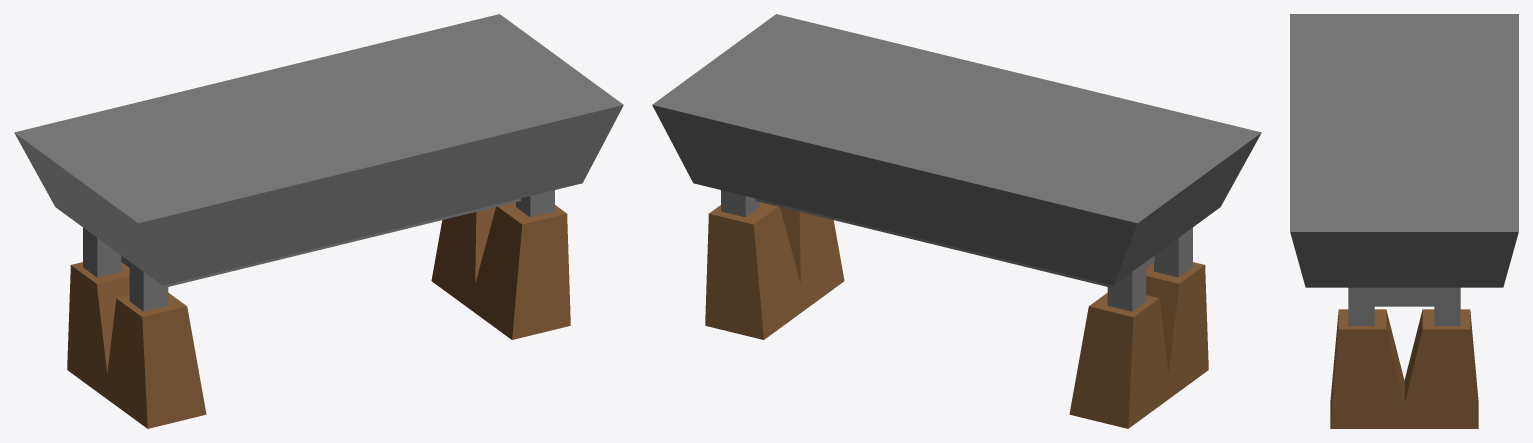
File: Smithing_Table.fbx
3 views of the same model, side by side, from view 1: azimuth 30°, elevation 25°; view 2: azimuth 150°, elevation 25°; view 3: azimuth 270°, elevation 25° (orthographic). The views are drawn at different scales.
Parts seen in each view (by area): view 1: SMHTable; view 2: SMHTable; view 3: SMHTable.
Boxes of the visible parts, bbox=[...] form: SMHTable: bbox=[14, 14, 623, 428]; SMHTable: bbox=[652, 14, 1261, 428]; SMHTable: bbox=[1290, 14, 1518, 428].
Bounding box in the file's own units: 333 × 150 × 148.
